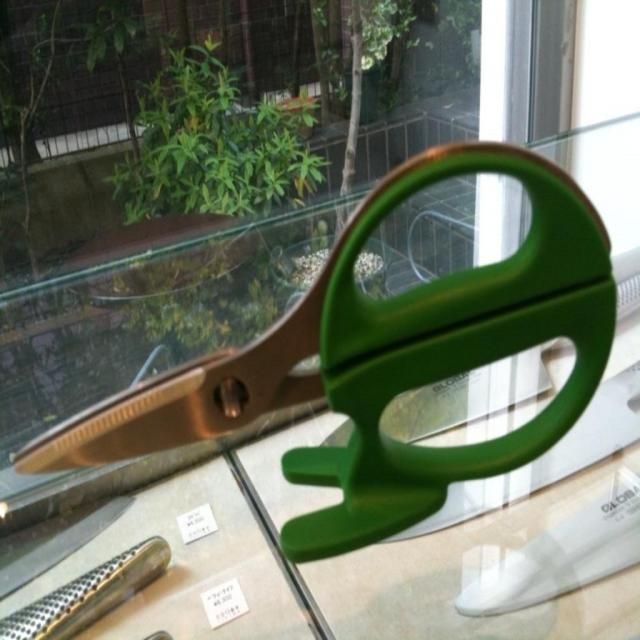scissor: (14, 132, 624, 564), (13, 138, 618, 565)
